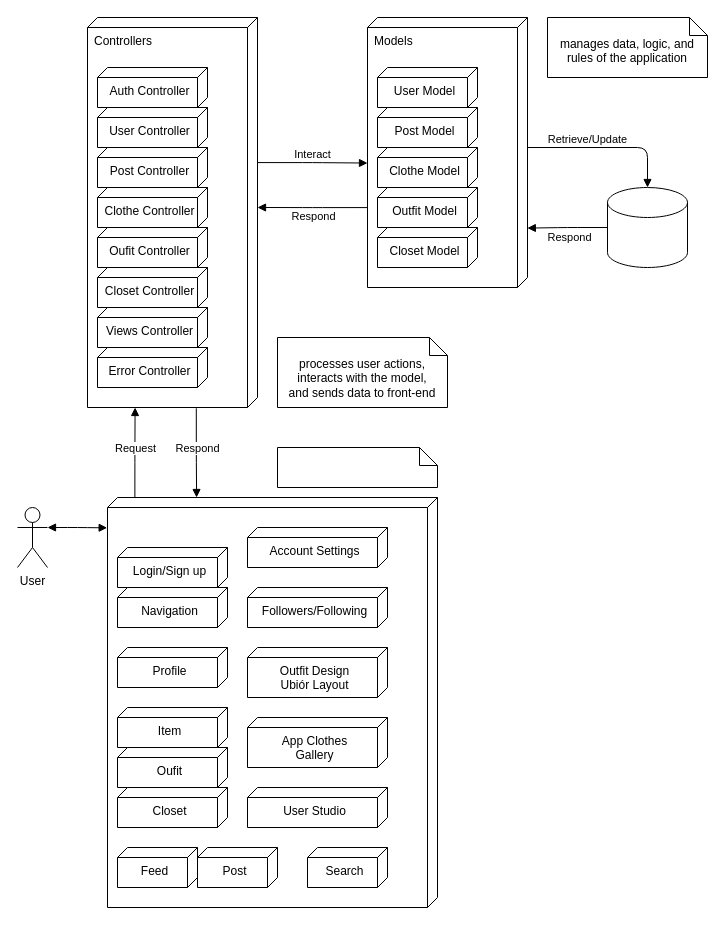
Some shapes in this 725 by 925 pixel diagram are drawn without their labels. The centre of each missing label's shape, as x and y in pixels:
"Database" belongs at (x=647, y=227).
"responsible for rendering" belongs at (x=357, y=467).
"User Interface" belongs at (x=272, y=702).
